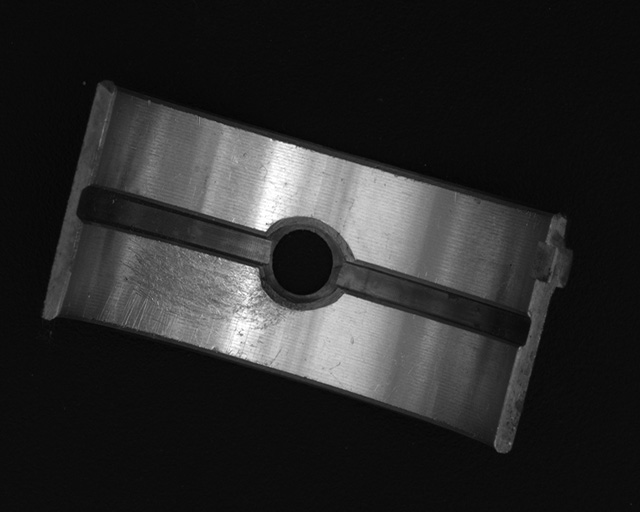gap: (337, 258, 531, 345), (77, 185, 275, 268)
hole: (259, 215, 350, 310)
scratch: (97, 227, 284, 371)
